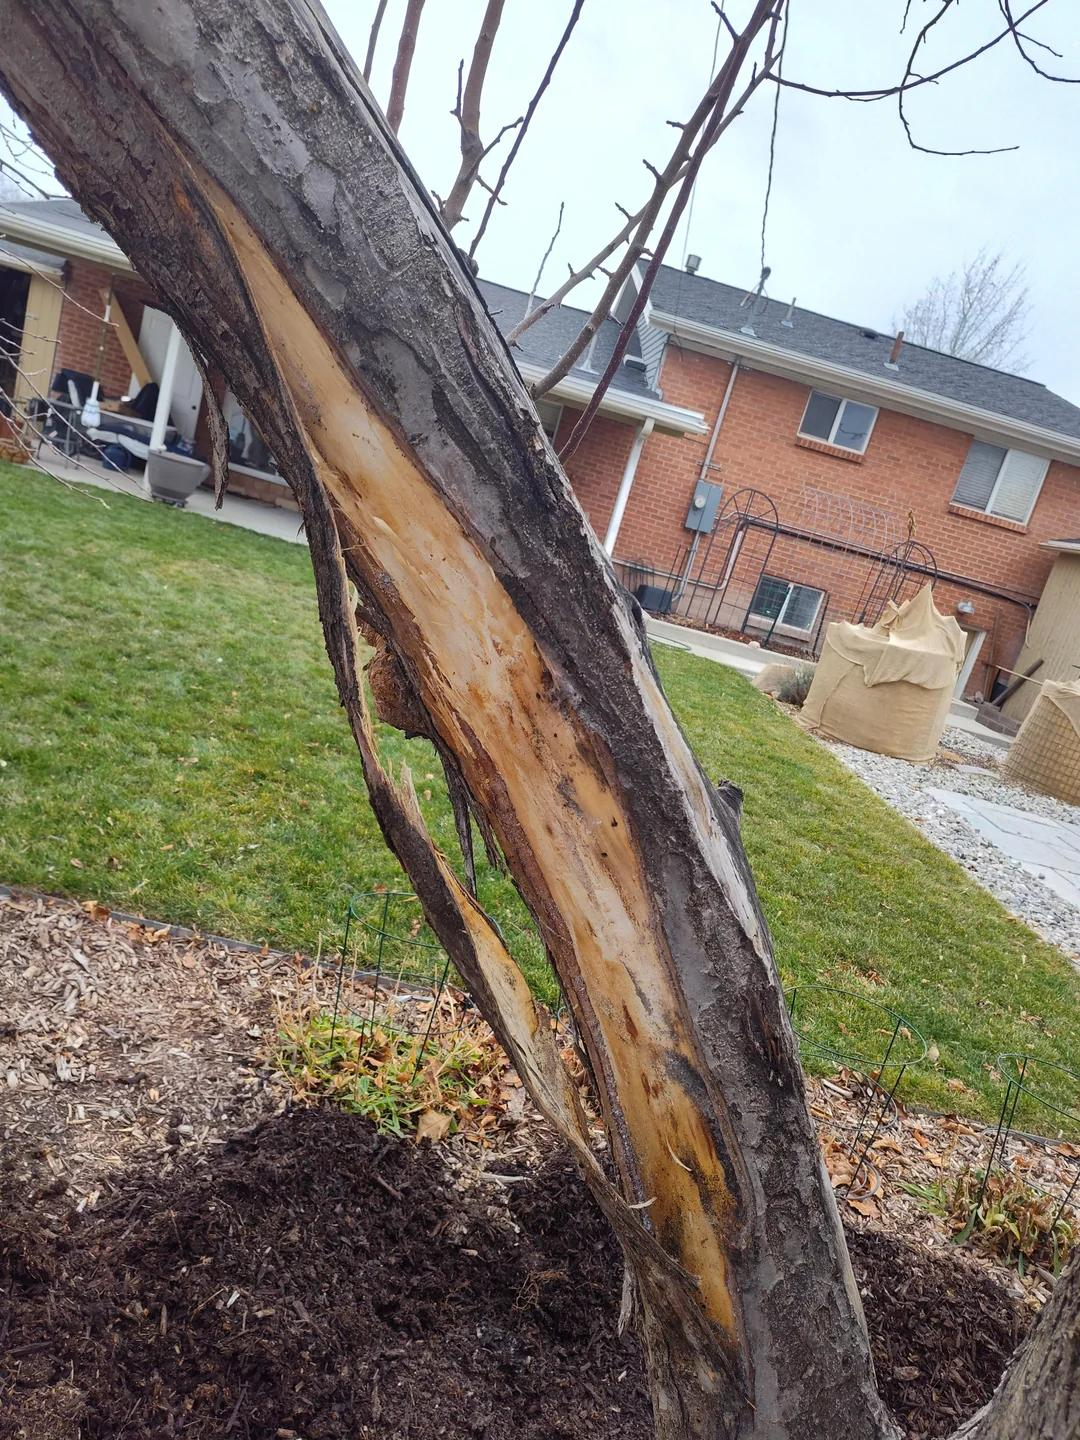mechanical damage: (160, 124, 740, 1356)
